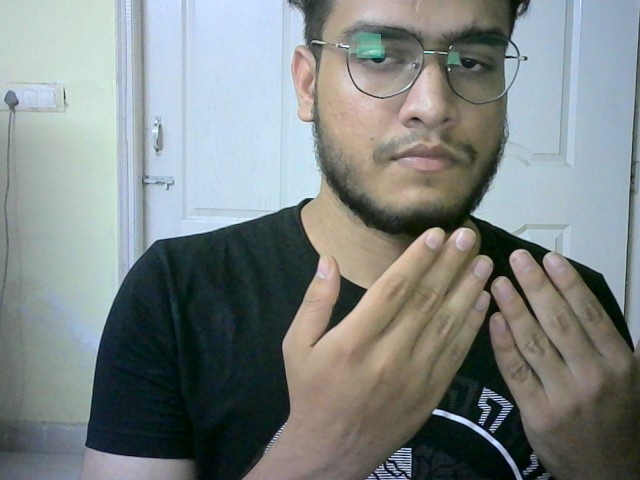Thank You: (279, 220, 640, 450)
